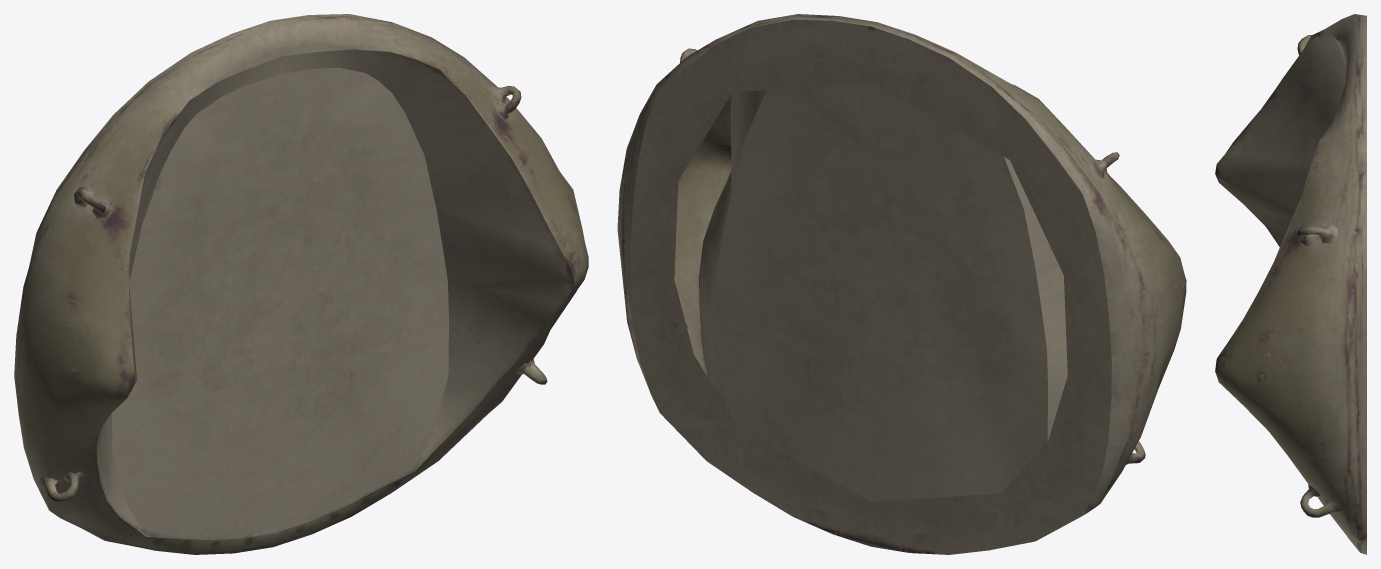
The model's file is Turret_01.glb.
3 views of the same model, side by side, from view 1: azimuth 30°, elevation 25°; view 2: azimuth 150°, elevation 25°; view 3: azimuth 270°, elevation 25° (orthographic). The views are drawn at different scales.
Visible parts, largest first — view 1: set_0_group_0; view 2: set_0_group_0; view 3: set_0_group_0.
Part boxes in pixels (x1,y1,x2,y2): set_0_group_0: (14,14,588,554); set_0_group_0: (617,14,1186,554); set_0_group_0: (1215,14,1366,554).
Size of the model in its own units: 2.36 by 2.19 by 0.6247.
Materials: 1 (1 with a texture image).
